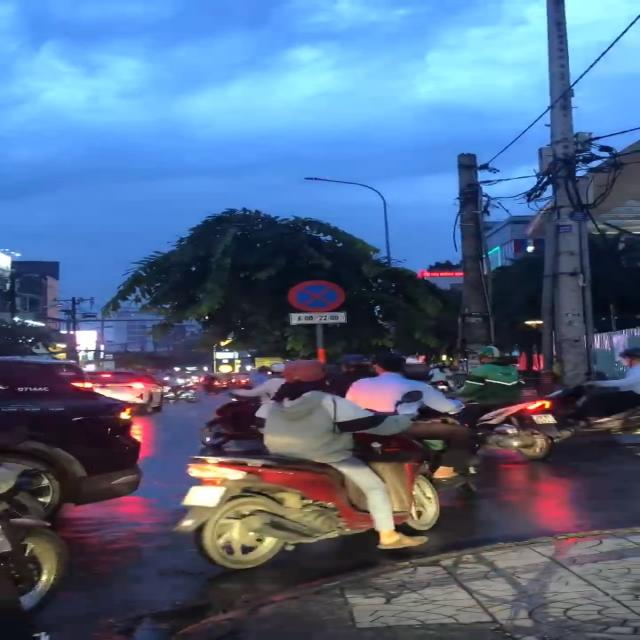Bien bao cam dung xe va do xe: (284, 278, 352, 312)
